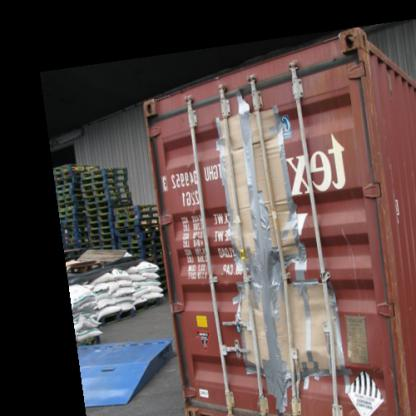Damage: (200, 105, 348, 409)
